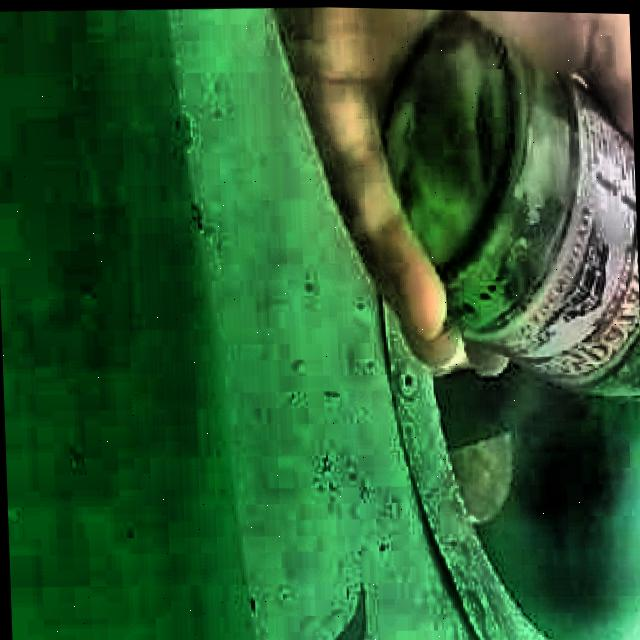glass: (385, 11, 640, 394)
